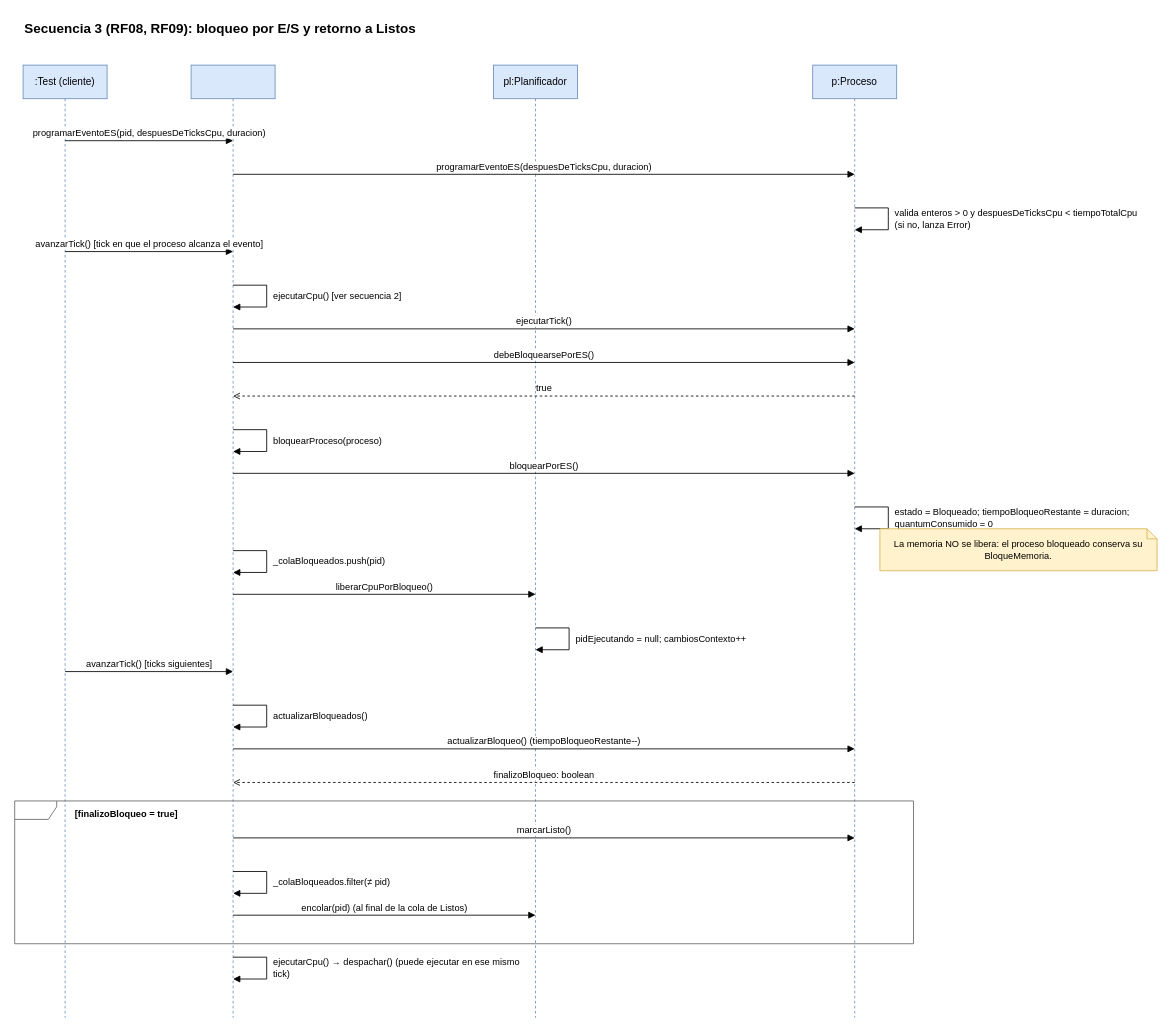
Image size: 1172x1032. Some labels were removed from this diagram. The shapes that lost their labels are listed below. From the top down, each one's box as (x1, y1, x2, y2) in pixels, then its label:
(190, 64, 275, 1018): s:Simulacion
(14, 800, 914, 944): alt
